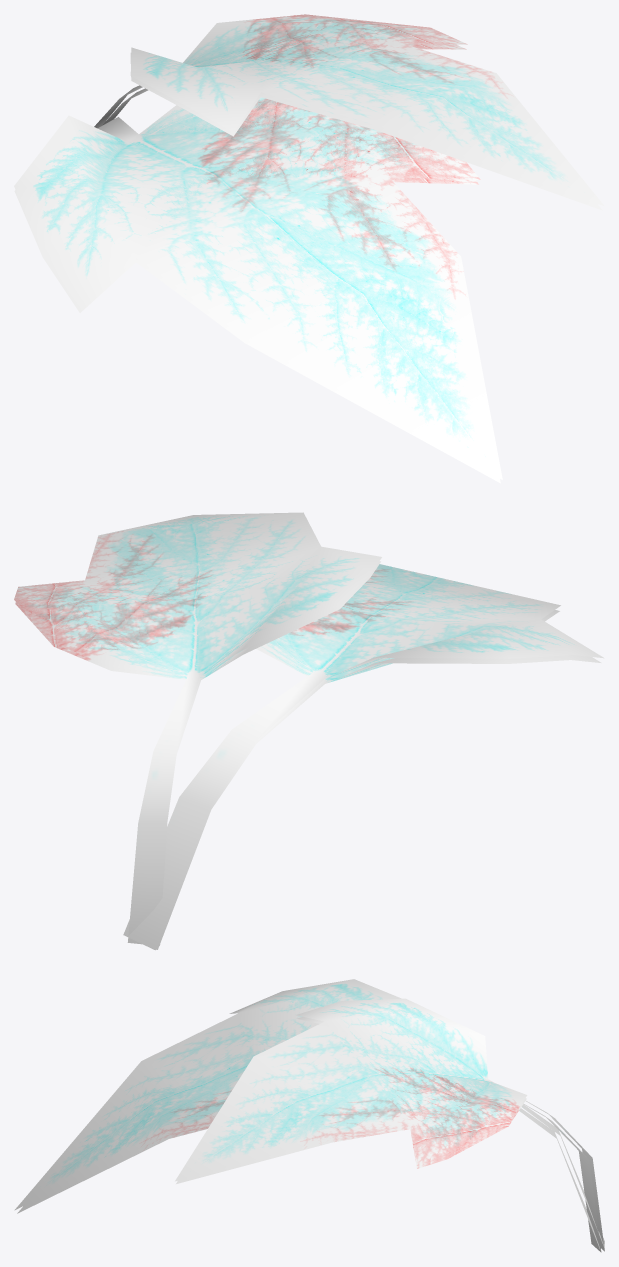
File: pG_leaf_02.fbx
3 views of the same model, one above another, from view 1: azimuth 30°, elevation 25°; view 2: azimuth 150°, elevation 25°; view 3: azimuth 270°, elevation 25° (orthographic). The views are drawn at different scales.
Parts seen in each view (by area): view 1: leaf_02; view 2: leaf_02; view 3: leaf_02.
Part boxes in pixels (x1,y1,x2,y2): leaf_02: (14, 14, 604, 483); leaf_02: (14, 512, 604, 950); leaf_02: (14, 979, 604, 1252).
Size of the model in its own units: 47.52 by 26.71 by 63.7.
1 material, 1 textured.
